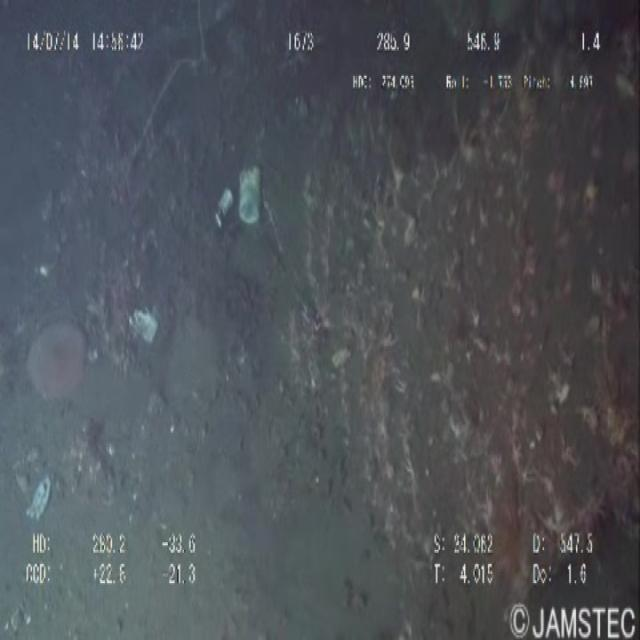Glass: (210, 179, 237, 235)
Litter: (125, 288, 165, 369), (27, 467, 61, 530)
Plastic: (240, 146, 270, 234)
